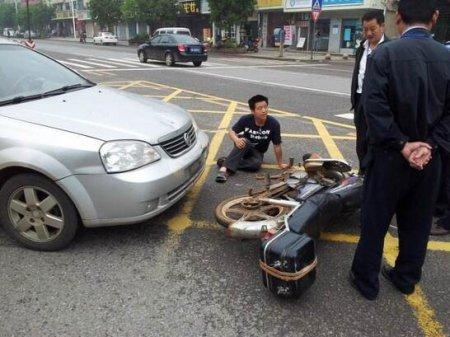falling: (209, 93, 285, 180)
